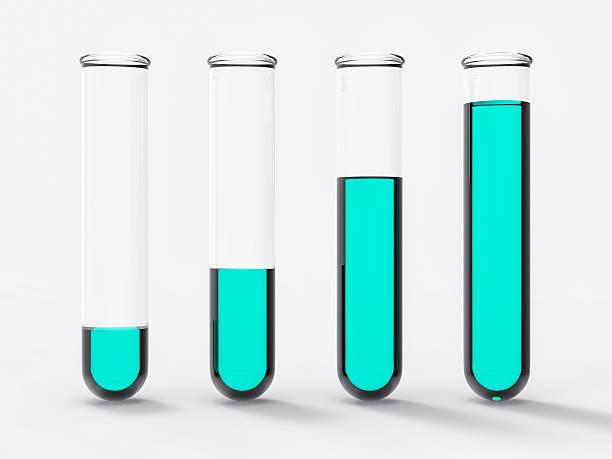Test tube: (194, 41, 279, 402), (330, 48, 411, 407), (453, 48, 530, 401), (76, 29, 149, 399)
